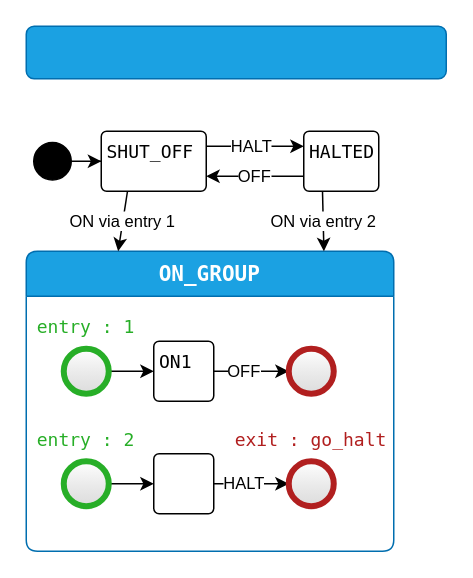
The diagram is 473 pixels wide and 578 high, and some of its shapes have lost their labels. The centre of each missing label's shape, as x and y in pixels:
"$STATEMACHINE : enter-exit-pt" belongs at point 235,52.
"exit : go_off" belongs at point 310,370.
"ON2" belongs at point 183,483.
